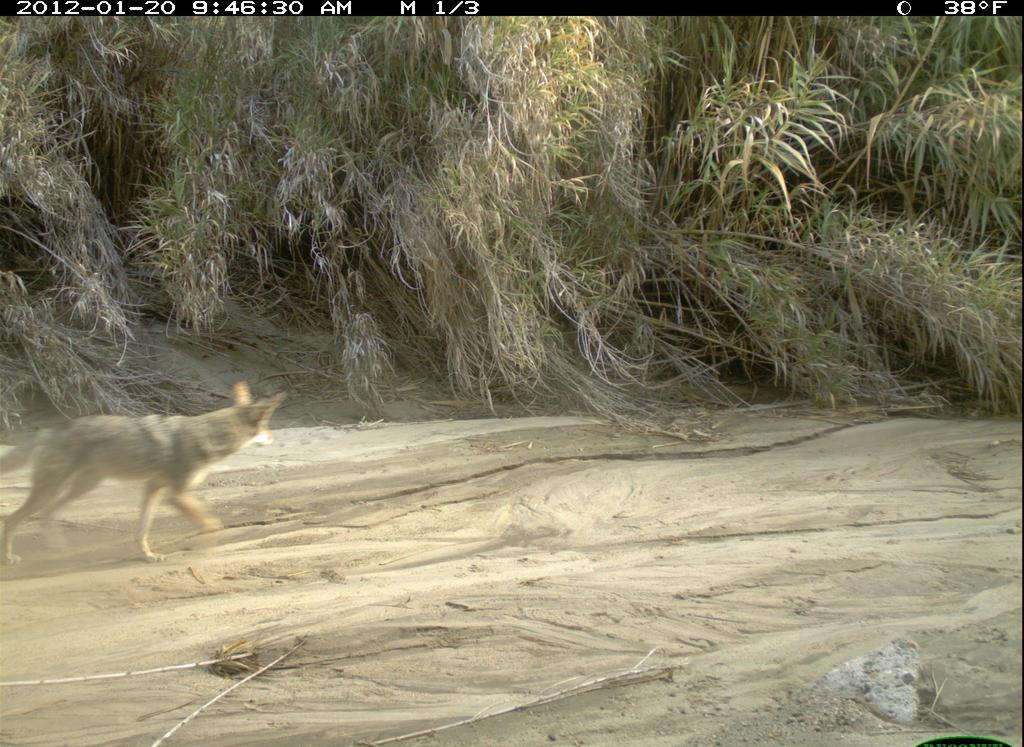coyote: (1, 379, 292, 574)
